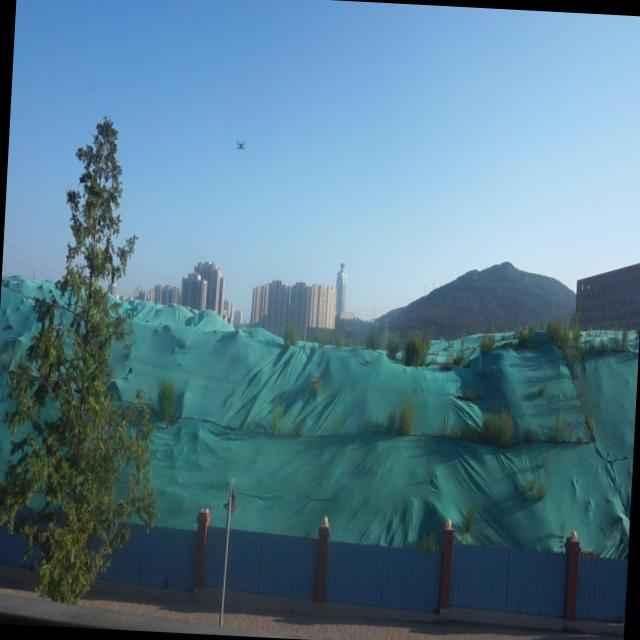drone: (233, 135, 250, 155)
